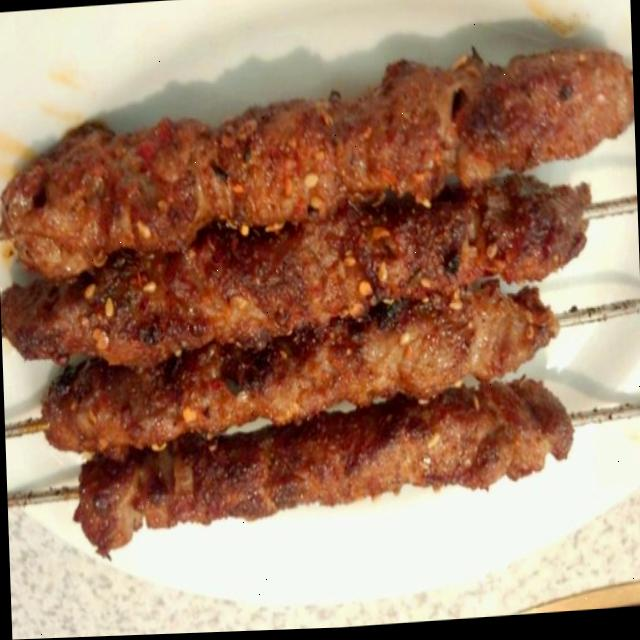烧串烤肉: (2, 0, 635, 613)
